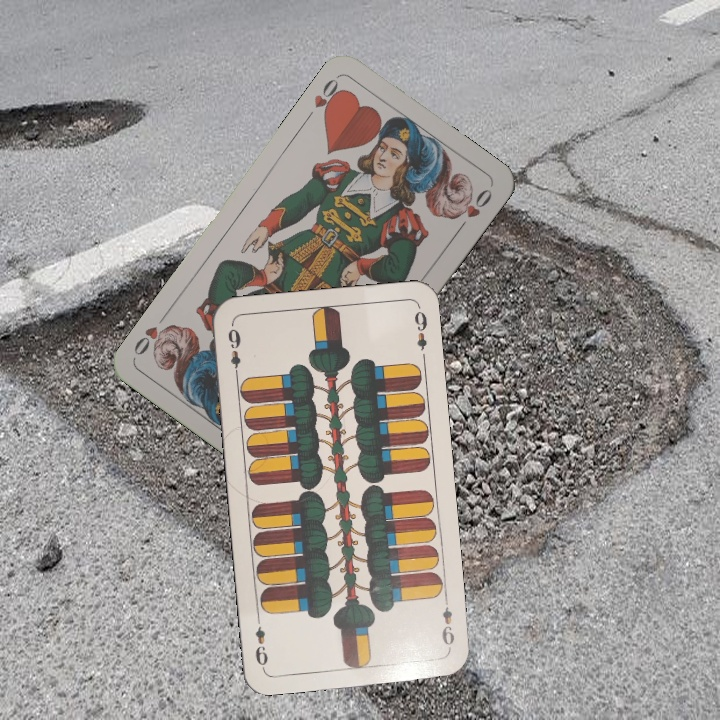E9: (223, 321, 243, 380), (438, 594, 457, 653)
HO: (301, 74, 347, 124)
